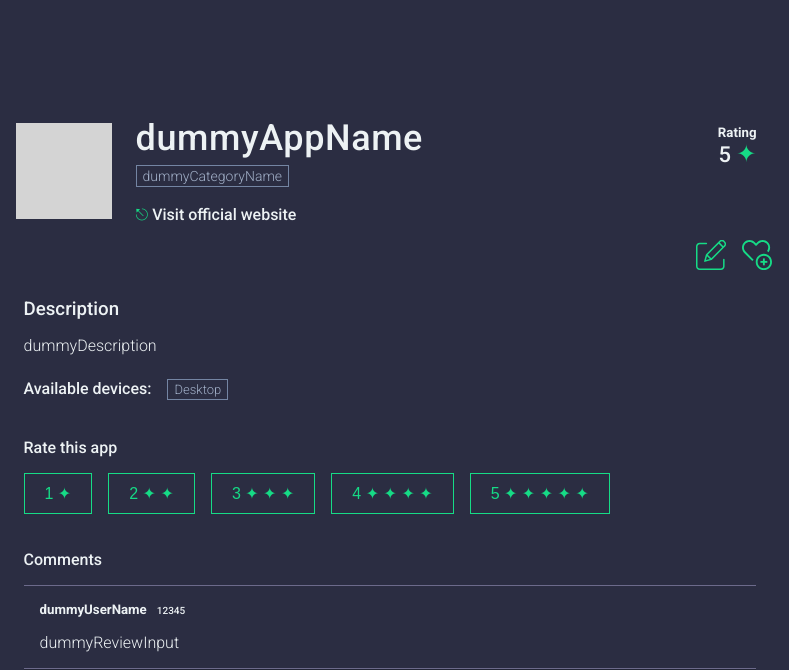
Test: user use features successfully › user adds app to wishlist when clicking on button
The image size is (789, 670).
Click the button titled "add to wish list": point(758, 257) [742,240,772,274]
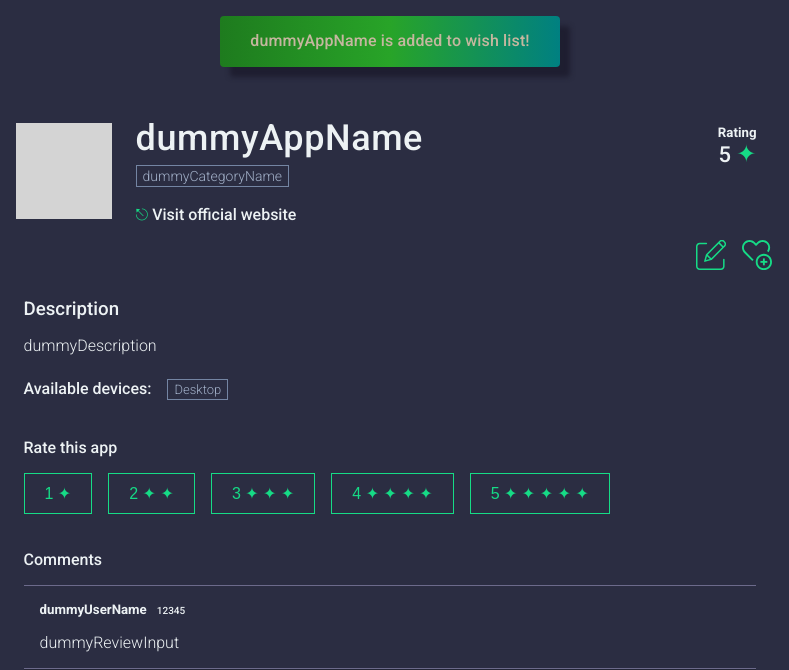
Expected: the text "dummyAppName is added to wish list!" is shown, [250,31,530,50]
